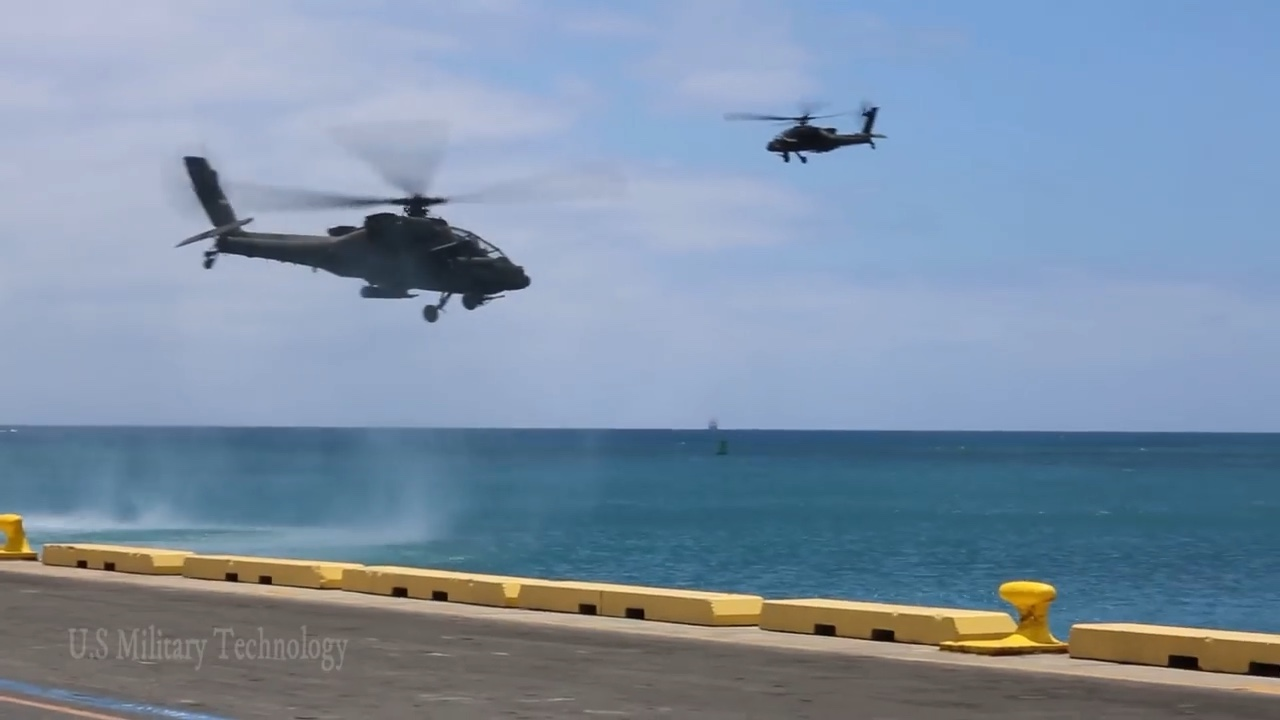ah64: (154, 118, 634, 324), (721, 98, 890, 166)
